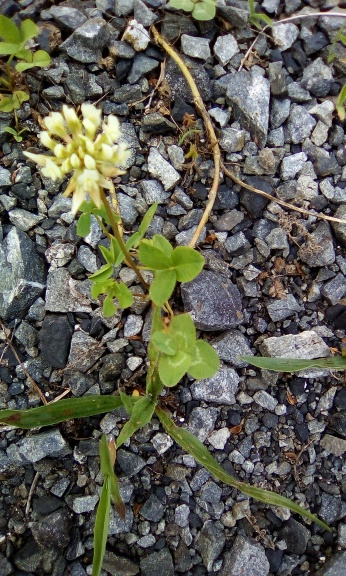4leaf: (151, 312, 221, 389)
